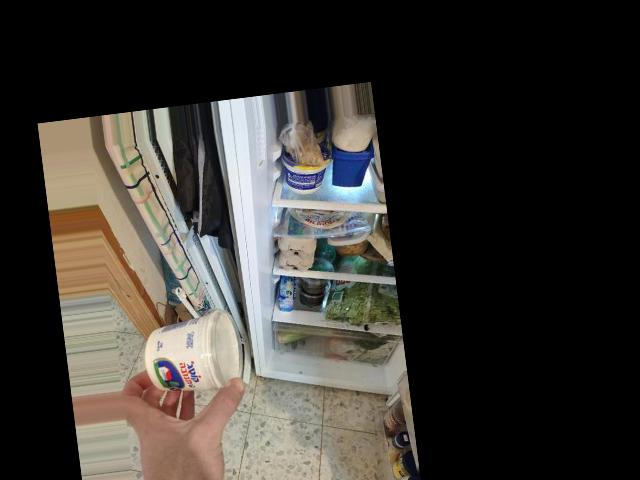cotage: (148, 316, 240, 403)
